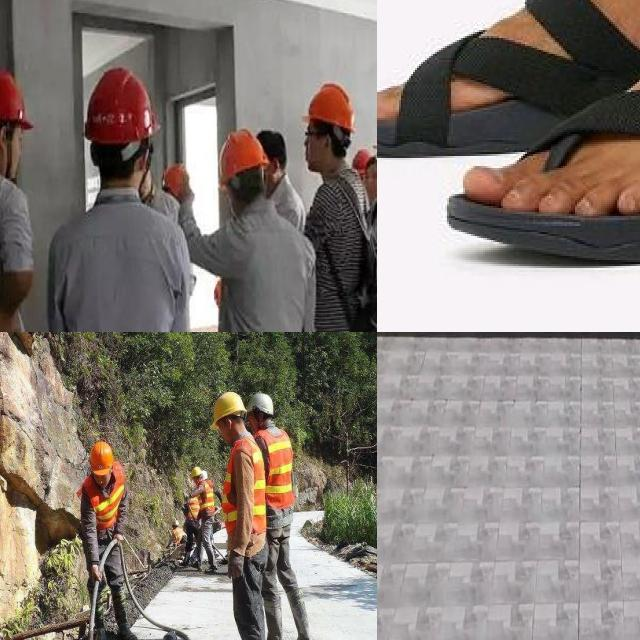No_Ear-Protection: (0, 118, 14, 156), (318, 128, 337, 156), (138, 141, 152, 175)
Sandals: (377, 0, 640, 281)
face_nomask: (218, 416, 238, 446), (90, 468, 113, 487)
hand_glove: (226, 544, 249, 589)
hand_noglove: (88, 558, 106, 586), (112, 535, 126, 550)
head_helmet: (87, 441, 114, 473), (210, 389, 244, 413), (255, 394, 277, 414), (188, 466, 204, 478), (170, 518, 180, 528)
person: (257, 394, 316, 640), (210, 393, 266, 640), (80, 438, 132, 640), (187, 467, 221, 564), (165, 508, 190, 559)
shoes: (89, 617, 114, 640), (289, 624, 318, 640), (117, 618, 137, 640), (262, 621, 285, 640)
vest: (226, 443, 265, 545), (260, 433, 296, 507), (91, 491, 124, 531), (184, 501, 200, 517), (174, 529, 186, 544)
